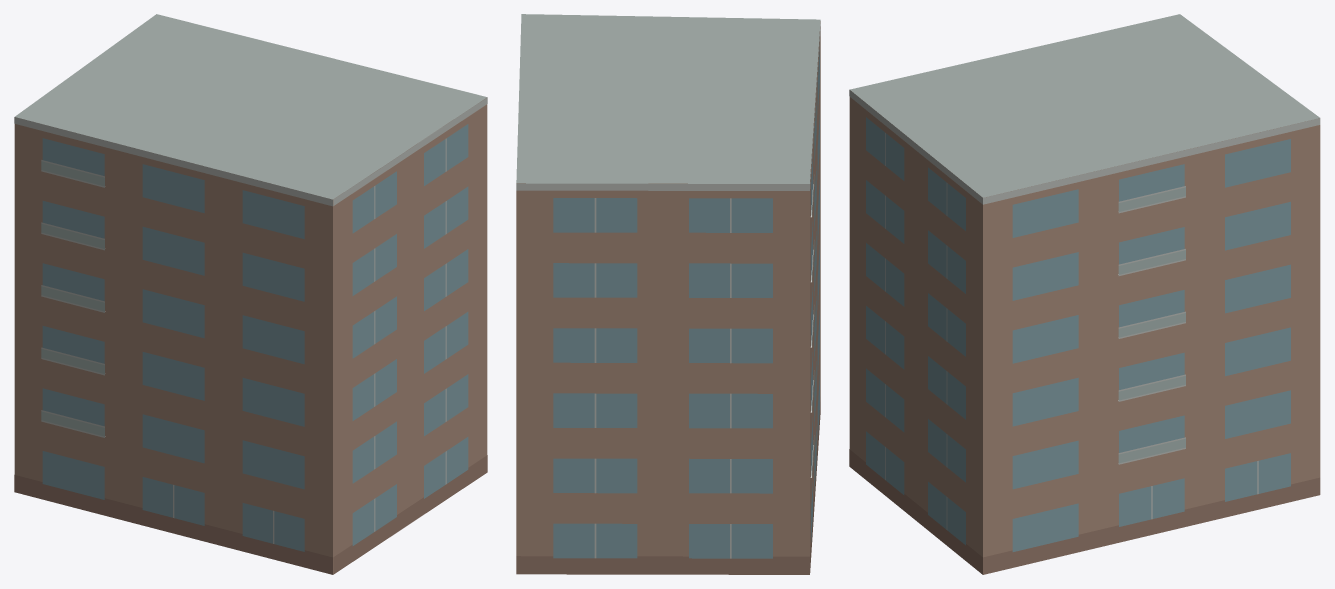
File: survey-upis-32885134.glb
3 renders of one model, left to right at view 1: azimuth 30°, elevation 25°; view 2: azimuth 150°, elevation 25°; view 3: azimuth 270°, elevation 25°, orthographic. The views are drawn at different scales.
Visible parts, largest first — view 1: survey-upis-32885134.tmp; view 2: survey-upis-32885134.tmp; view 3: survey-upis-32885134.tmp.
Part boxes in pixels (left/top/right/bottom): survey-upis-32885134.tmp: left=14, top=14, right=487, bottom=574; survey-upis-32885134.tmp: left=516, top=14, right=820, bottom=574; survey-upis-32885134.tmp: left=849, top=14, right=1320, bottom=574.
Bounding box in the file's own units: 14.02 × 13.4 × 15.17.
